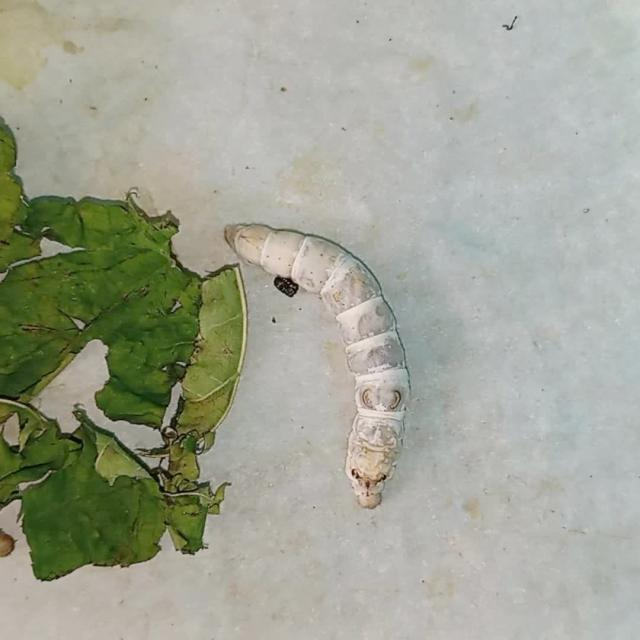Grasserie: (205, 187, 438, 522)
